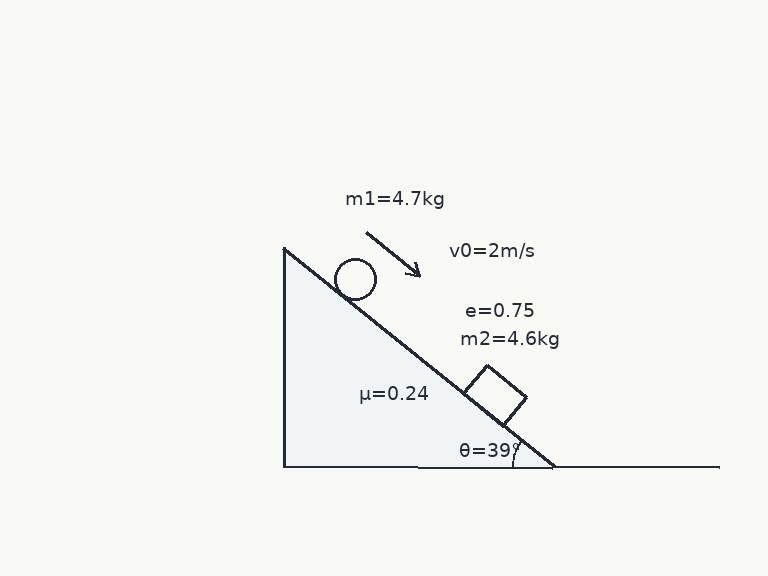ball: (332, 256, 378, 302)
block: (461, 362, 529, 428)
ramp: (281, 245, 555, 468)
